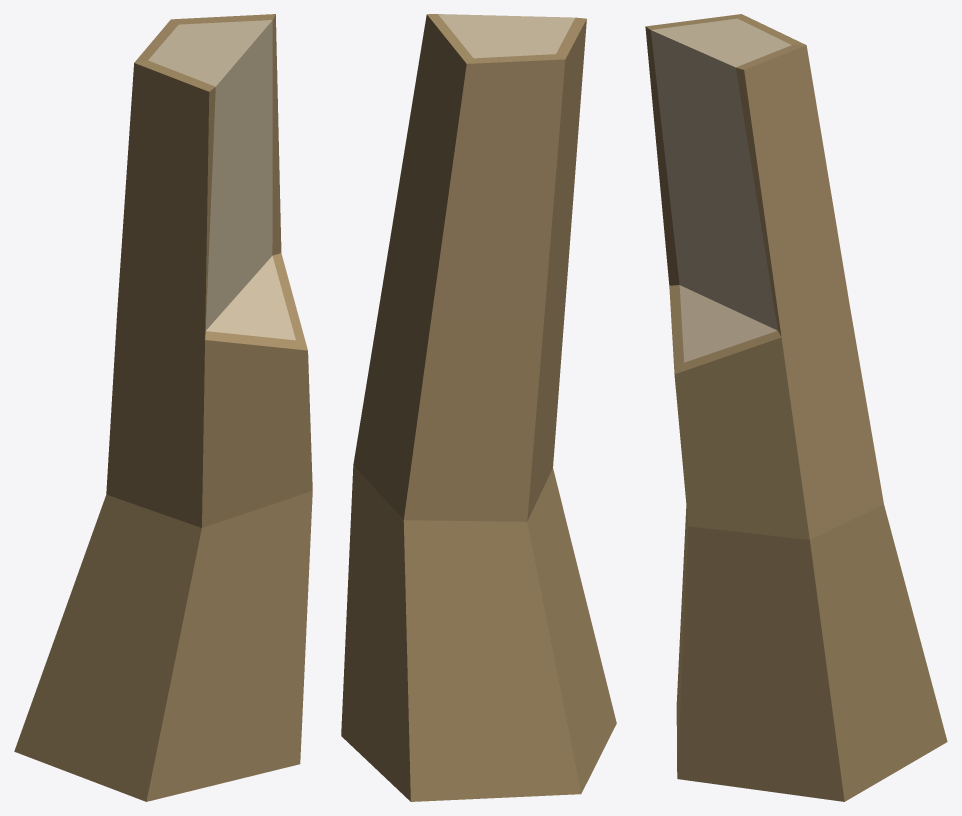
File: Apple_Stump_01.fbx
3 views of the same model, side by side, from view 1: azimuth 30°, elevation 25°; view 2: azimuth 150°, elevation 25°; view 3: azimuth 270°, elevation 25° (orthographic). The views are drawn at different scales.
Parts seen in each view (by area): view 1: Apple_Stump_01; view 2: Apple_Stump_01; view 3: Apple_Stump_01.
Boxes of the visible parts, bbox=[...] form: Apple_Stump_01: bbox=[14, 14, 312, 801]; Apple_Stump_01: bbox=[341, 14, 616, 801]; Apple_Stump_01: bbox=[645, 14, 947, 801].
Size of the model in its own units: 44.49 by 121 by 46.39.
